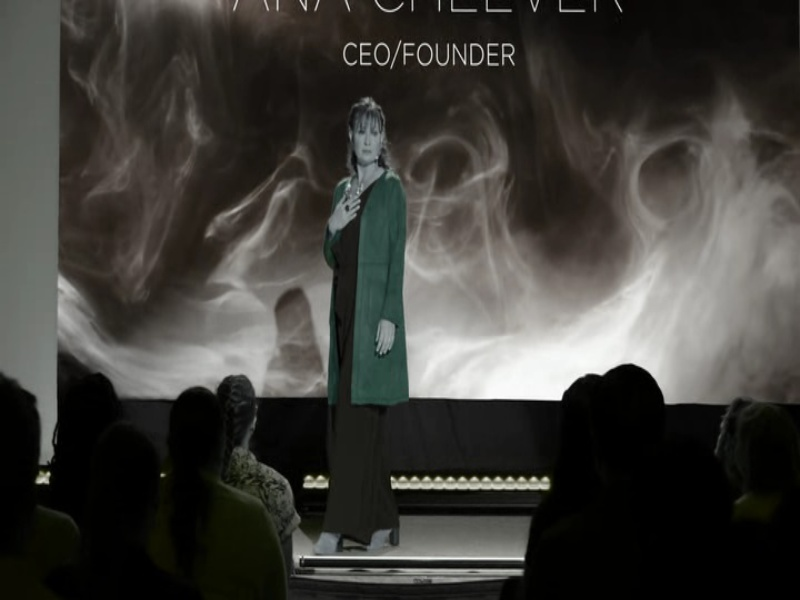TsisyArotava: (339, 97, 397, 179)
